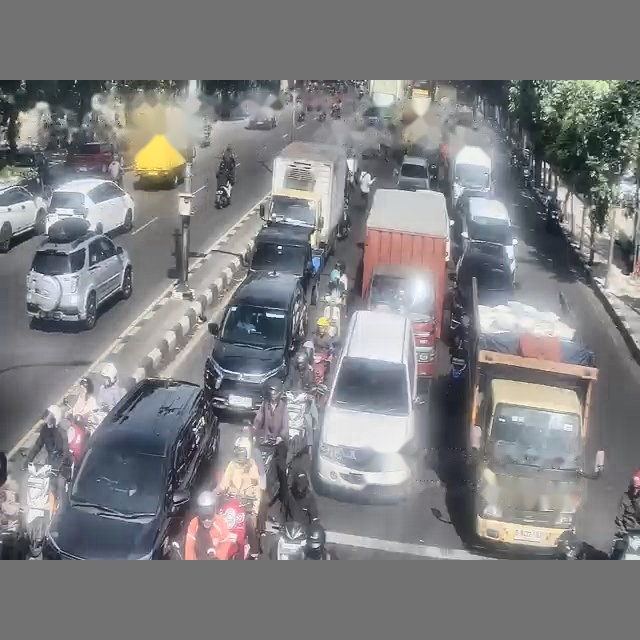Mobil: (43, 379, 218, 559), (314, 310, 424, 497), (204, 272, 307, 412), (26, 220, 132, 329), (249, 223, 317, 303), (45, 178, 134, 232), (460, 197, 517, 281), (454, 244, 514, 312), (0, 186, 46, 252), (0, 147, 50, 182), (66, 142, 114, 174), (397, 155, 430, 191), (247, 110, 276, 129)
Motor: (23, 463, 56, 557), (285, 391, 313, 458), (271, 522, 305, 559), (322, 291, 344, 336), (215, 185, 231, 210), (296, 111, 305, 121), (317, 112, 325, 121)
Truk: (467, 282, 604, 553), (362, 189, 450, 382), (260, 141, 347, 269)
